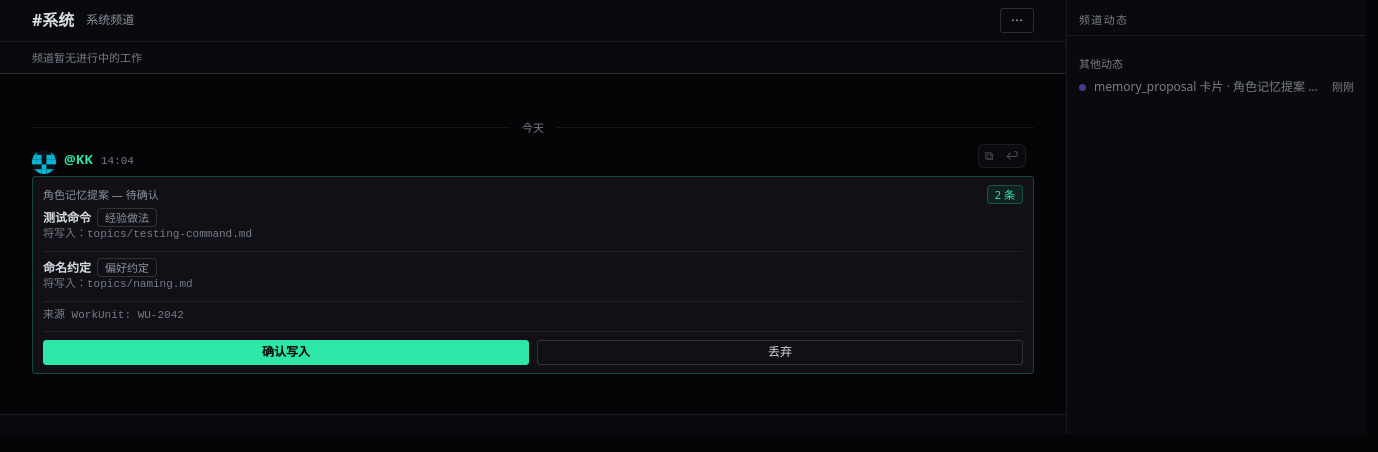
Test case: ChannelDetailPage — memory_proposal 审核分发 › approve → 逐 draftId POST 通用端点 approve，卡片显示已确认
Click the button "确认写入": (286,352) [43,340,529,365]
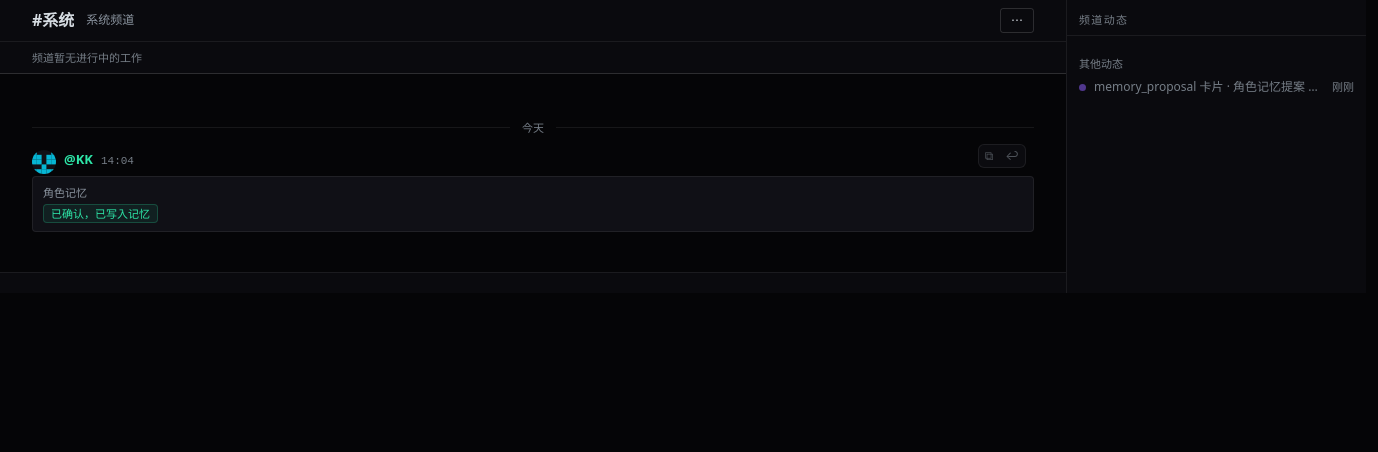
Result: the text "已确认，已写入记忆" is shown at [43,204,158,223]
